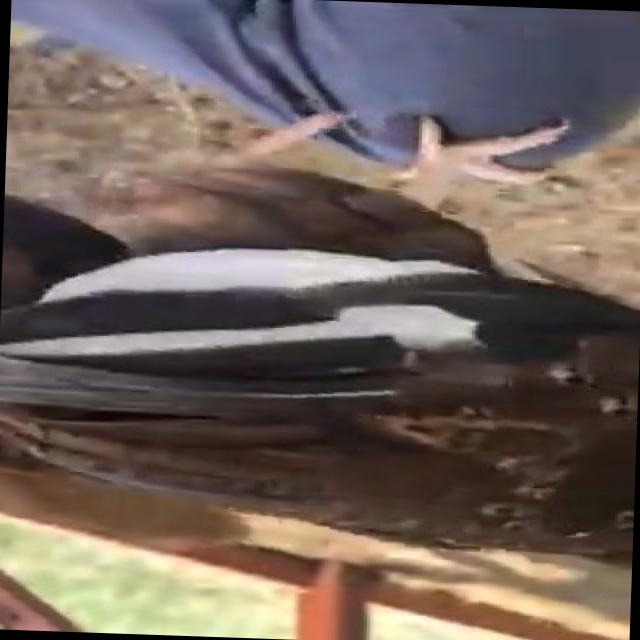leg stretching: (0, 96, 640, 596)
